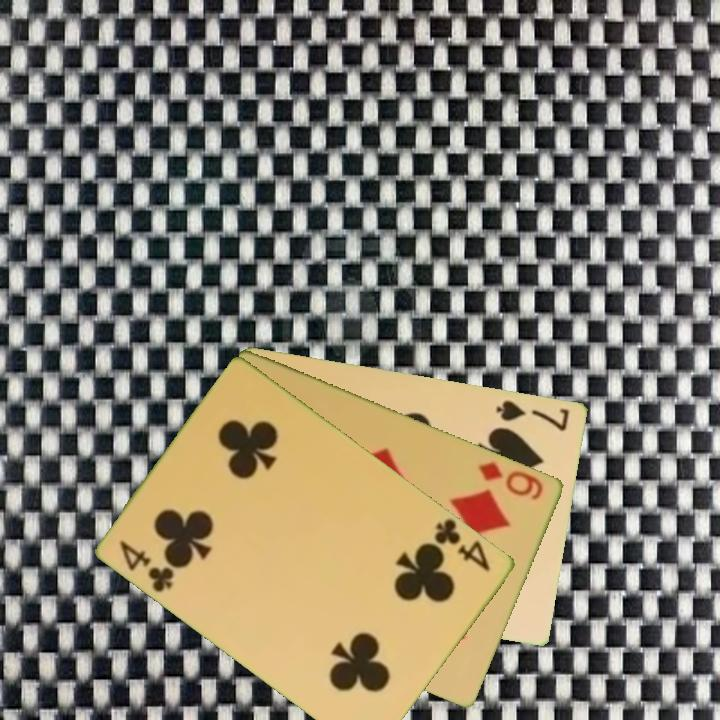4c: (428, 514, 494, 575), (116, 537, 178, 596)
6d: (476, 457, 547, 503)
7s: (493, 396, 573, 434)
